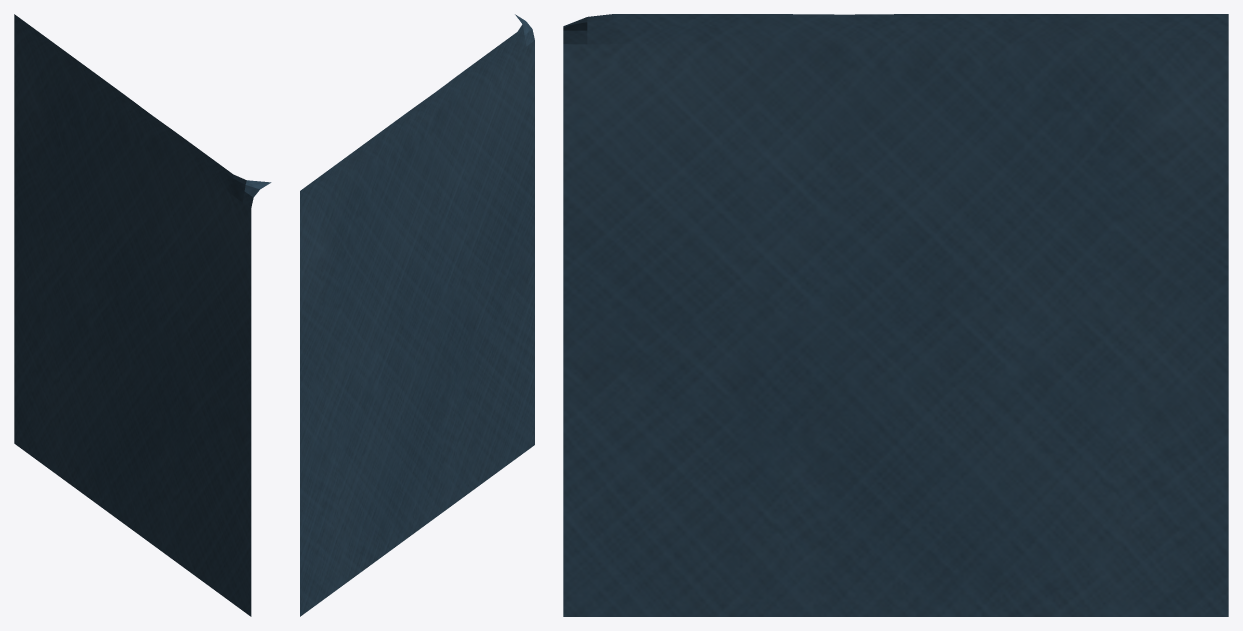
The model's file is tl_planeR.FBX.
3 views of the same model, side by side, from view 1: azimuth 30°, elevation 25°; view 2: azimuth 150°, elevation 25°; view 3: azimuth 270°, elevation 25° (orthographic). The views are drawn at different scales.
Parts seen in each view (by area): view 1: tl_planeR_MESH; view 2: tl_planeR_MESH; view 3: tl_planeR_MESH.
Boxes of the visible parts, x1=… form: tl_planeR_MESH: x1=14, y1=14, x2=271, y2=616; tl_planeR_MESH: x1=300, y1=14, x2=534, y2=616; tl_planeR_MESH: x1=563, y1=14, x2=1228, y2=616.
Size of the model in its own units: 5 by 100 by 100.
